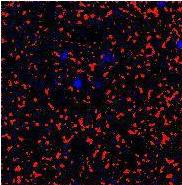star: (153, 28, 182, 58)
